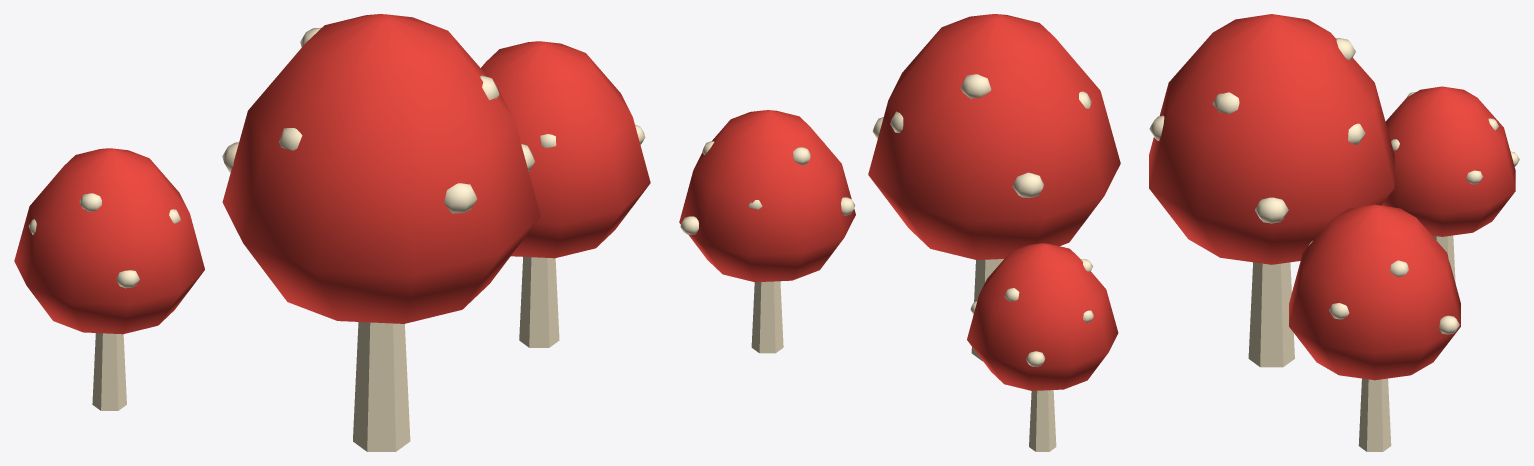
The model's file is source.glb.
3 renders of one model, left to right at view 1: azimuth 30°, elevation 25°; view 2: azimuth 150°, elevation 25°; view 3: azimuth 270°, elevation 25°, orthographic. The views are drawn at different scales.
Parts seen in each view (by area): view 1: mushroom-chunky-red; view 2: mushroom-chunky-red; view 3: mushroom-chunky-red.
Boxes of the visible parts, bbox=[...] form: mushroom-chunky-red: bbox=[14, 14, 650, 451]; mushroom-chunky-red: bbox=[679, 14, 1120, 451]; mushroom-chunky-red: bbox=[1149, 14, 1519, 451].
Bounding box in the file's own units: 1.02 × 0.73 × 0.7185.
